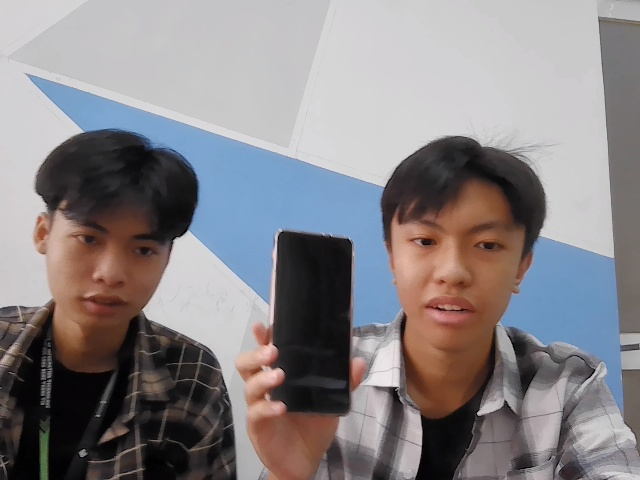human: (372, 116, 555, 340), (29, 120, 202, 342)
phone: (265, 214, 362, 417)
